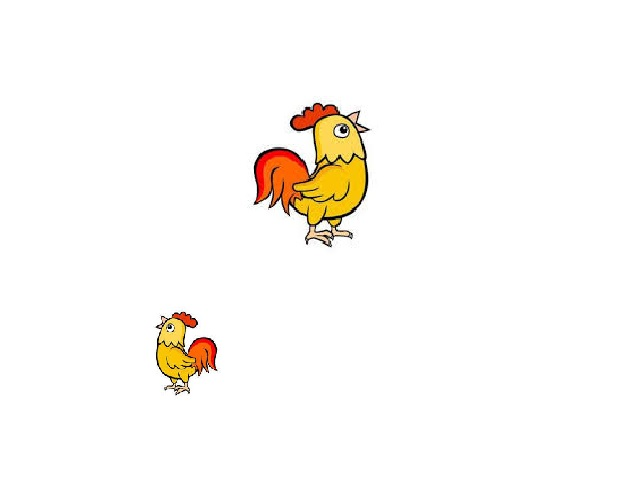crown: (289, 104, 339, 132), (173, 310, 201, 328)
eyes: (333, 122, 354, 142), (165, 322, 177, 332)
feet: (305, 225, 359, 248), (164, 382, 190, 395)
tail: (251, 147, 310, 215), (187, 336, 219, 376)
